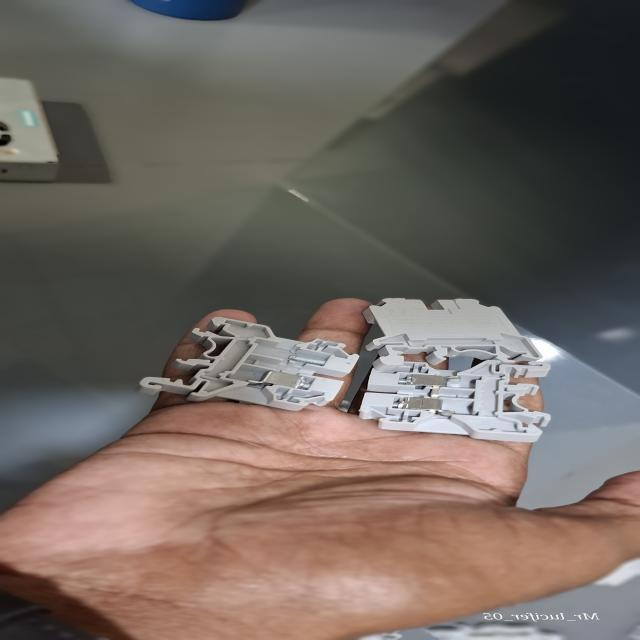Inverted: (363, 297, 542, 368)
Pass: (353, 360, 555, 445)
Reject: (138, 316, 360, 411)
